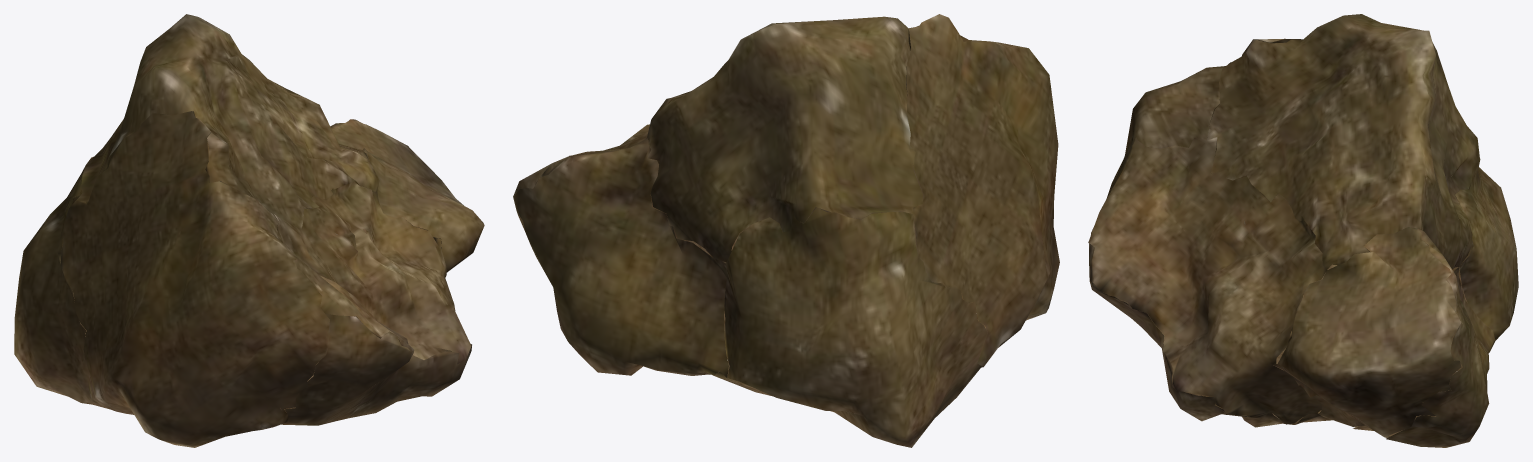
Rendered from pr_moss_a_01.fbx.
3 renders of one model, left to right at view 1: azimuth 30°, elevation 25°; view 2: azimuth 150°, elevation 25°; view 3: azimuth 270°, elevation 25°, orthographic. The views are drawn at different scales.
Visible parts, largest first — view 1: pr_moss_a_01_LOD0; view 2: pr_moss_a_01_LOD0; view 3: pr_moss_a_01_LOD0.
Boxes of the visible parts, x1,y1,x2,y2 form: pr_moss_a_01_LOD0: (14, 14, 484, 447); pr_moss_a_01_LOD0: (513, 14, 1059, 447); pr_moss_a_01_LOD0: (1088, 14, 1518, 447).
Size of what is drawn, in the model's own units: 2.13 by 1.78 by 1.97.
